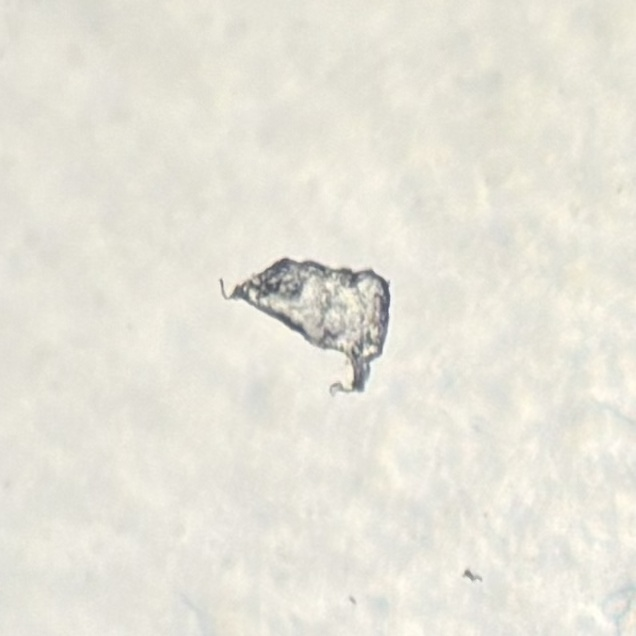microplastic: (221, 259, 391, 396)
